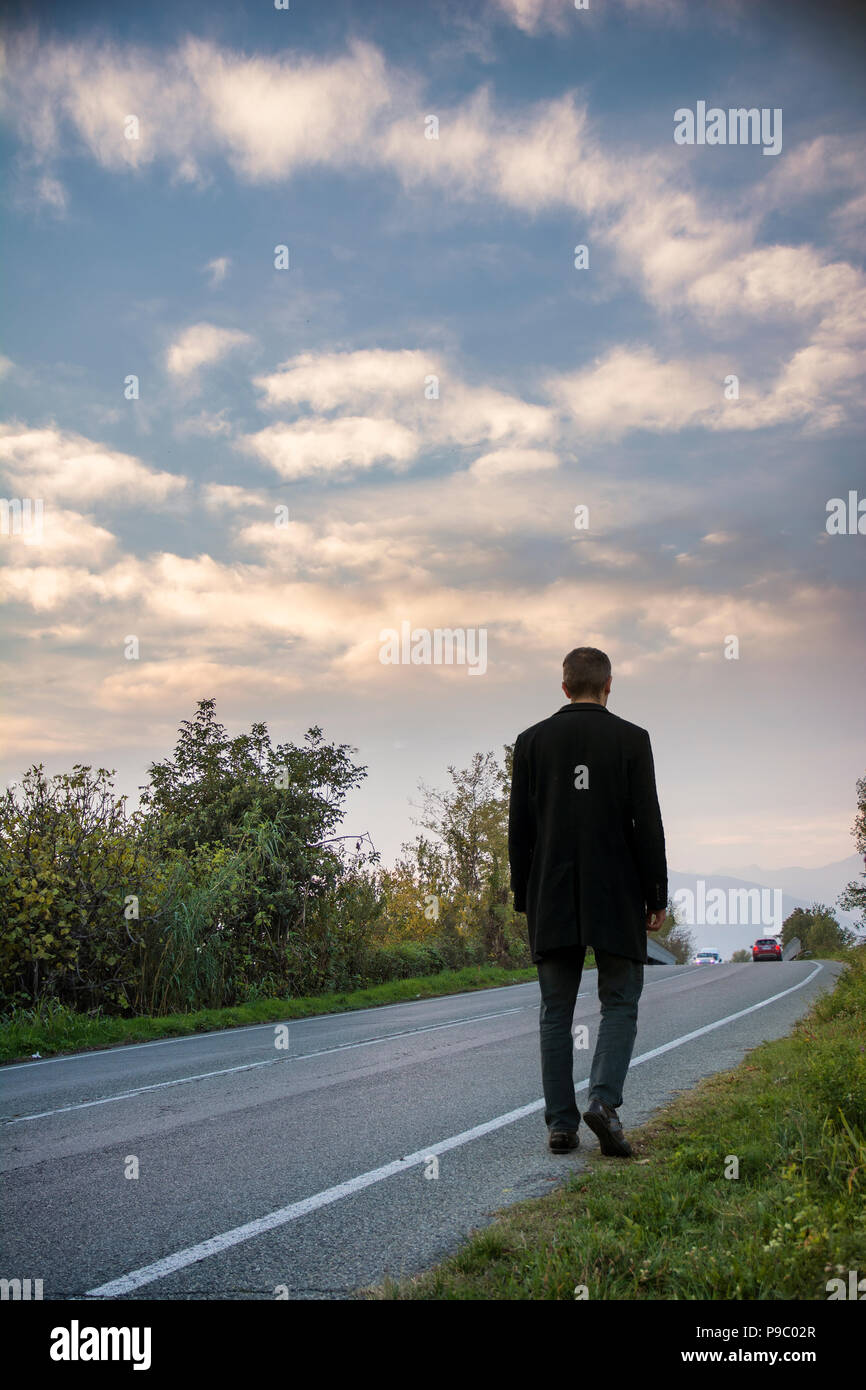Person: (487, 637, 688, 1159)
